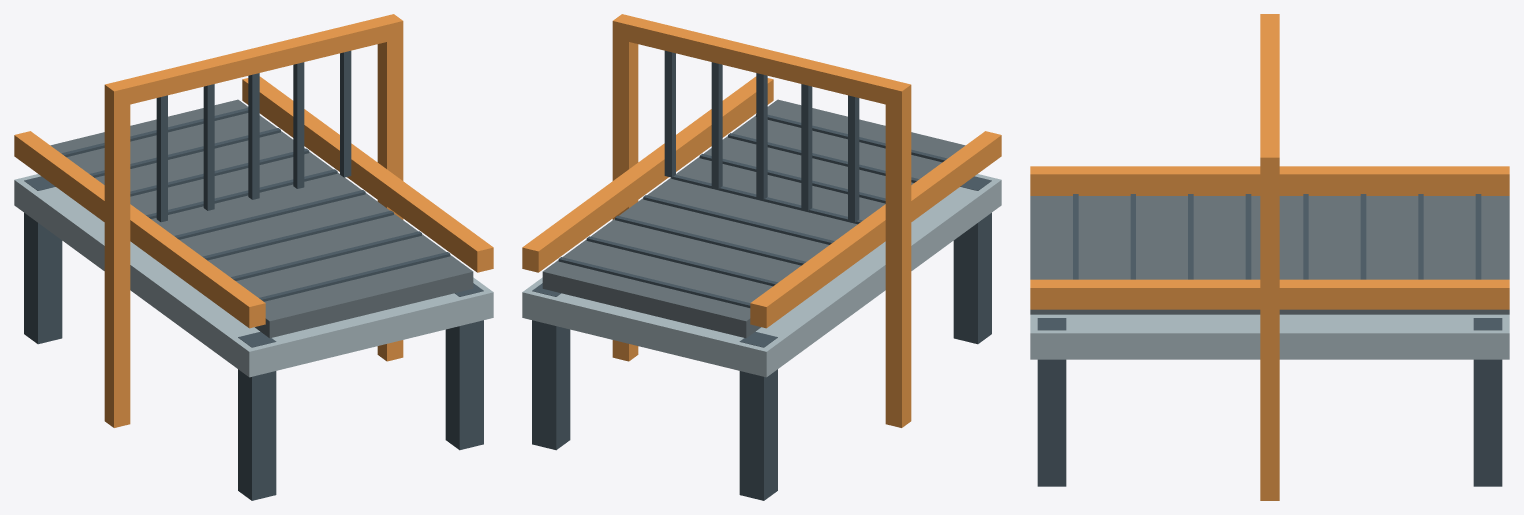
The model's file is guarded-conveyor-transfer.glb.
3 renders of one model, left to right at view 1: azimuth 30°, elevation 25°; view 2: azimuth 150°, elevation 25°; view 3: azimuth 270°, elevation 25°, orthographic.
Visible parts, largest first — view 1: orange, rubber, dark, steel; view 2: orange, rubber, dark, steel; view 3: rubber, orange, steel, dark.
Part boxes in pixels (x1,y1,x2,y2): orange: [14, 14, 493, 427]; rubber: [50, 99, 473, 338]; dark: [24, 50, 483, 500]; steel: [14, 174, 493, 377]; orange: [522, 14, 1001, 427]; rubber: [542, 99, 965, 338]; dark: [532, 50, 991, 500]; steel: [522, 174, 1001, 377]; rubber: [1030, 196, 1509, 314]; orange: [1030, 14, 1509, 500]; steel: [1030, 314, 1509, 359]; dark: [1037, 194, 1502, 486].
Bounding box in the file's own units: 1.42 × 1.58 × 2.
